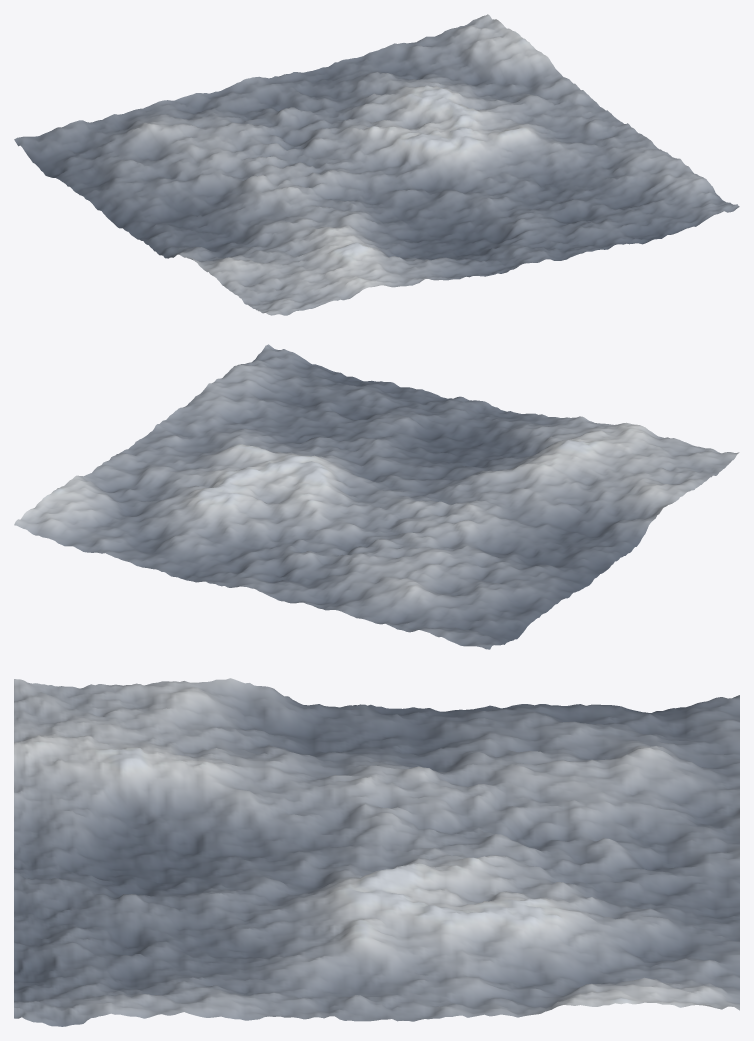
The model's file is fog.glb.
The picture shows the model from 3 angles, top to bottom: view 1: azimuth 30°, elevation 25°; view 2: azimuth 150°, elevation 25°; view 3: azimuth 270°, elevation 25°; orthographic projection. The views are drawn at different scales.
Visible parts, largest first — view 1: Sea; view 2: Sea; view 3: Sea.
Part boxes in pixels (bbox=[...]): Sea: bbox=[14, 14, 739, 315]; Sea: bbox=[14, 344, 739, 649]; Sea: bbox=[14, 678, 739, 1026].
Bounding box in the file's own units: 300 × 19.89 × 280.
